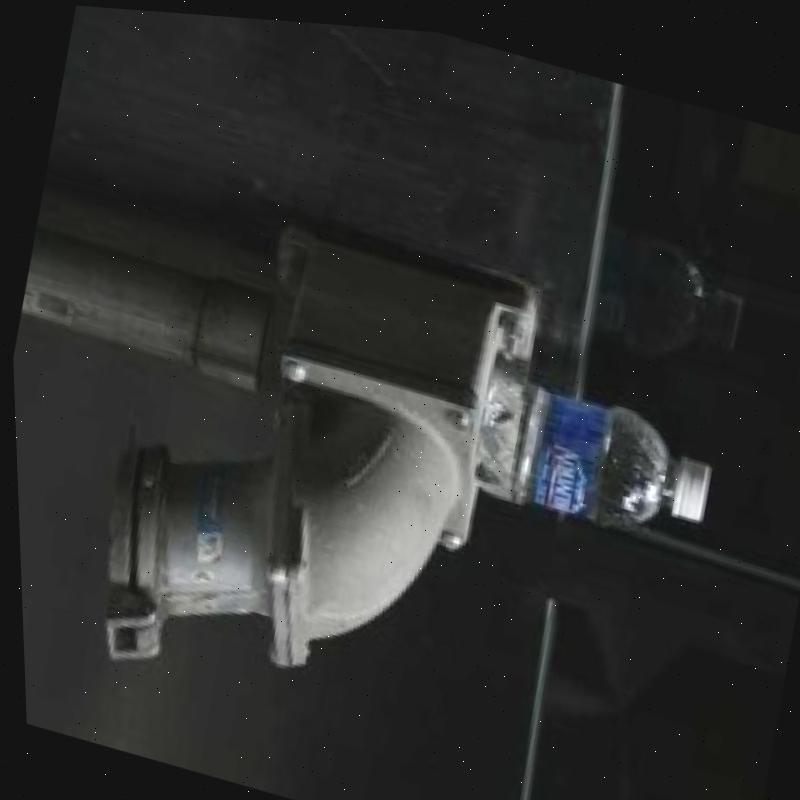botella: (456, 358, 724, 549)
